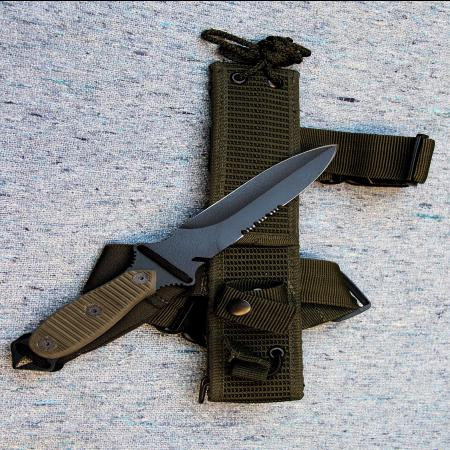long weapon: (136, 138, 346, 280)
